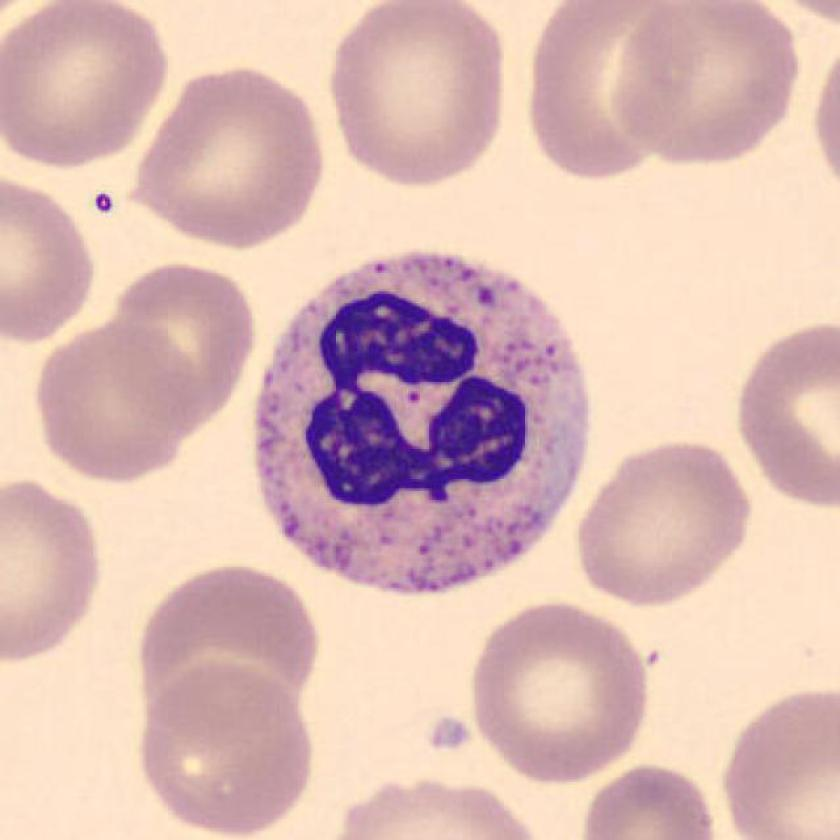neutrophil: (258, 256, 588, 600)
